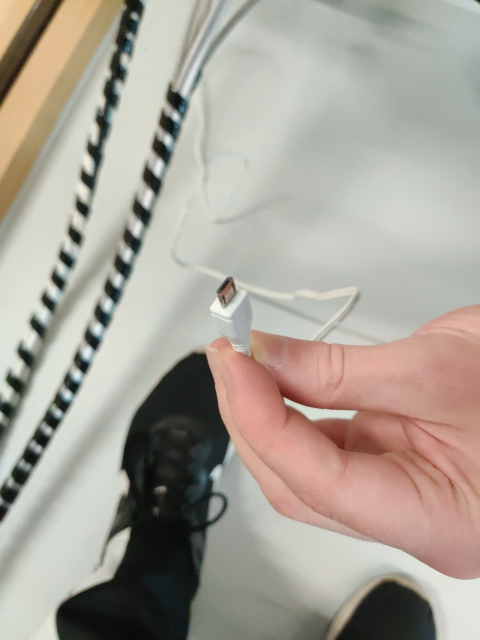Micro-USB: (212, 275, 238, 307)
